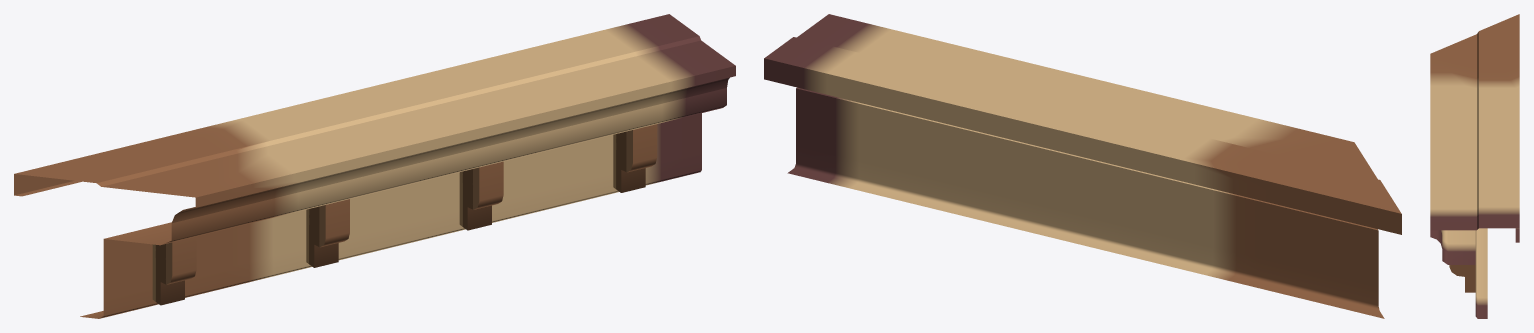
Rendered from DBK_Cornice_B_Full_Inside.fbx.
3 renders of one model, left to right at view 1: azimuth 30°, elevation 25°; view 2: azimuth 150°, elevation 25°; view 3: azimuth 270°, elevation 25°, orthographic. The views are drawn at different scales.
Parts seen in each view (by area): view 1: DBK_Cornice_B_Full_Inside; view 2: DBK_Cornice_B_Full_Inside; view 3: DBK_Cornice_B_Full_Inside.
Boxes of the visible parts, x1,y1,x2,y2 form: DBK_Cornice_B_Full_Inside: (14, 14, 735, 318); DBK_Cornice_B_Full_Inside: (764, 14, 1401, 318); DBK_Cornice_B_Full_Inside: (1430, 14, 1519, 318).
Bounding box in the file's own units: 320 × 63.25 × 56.29.
